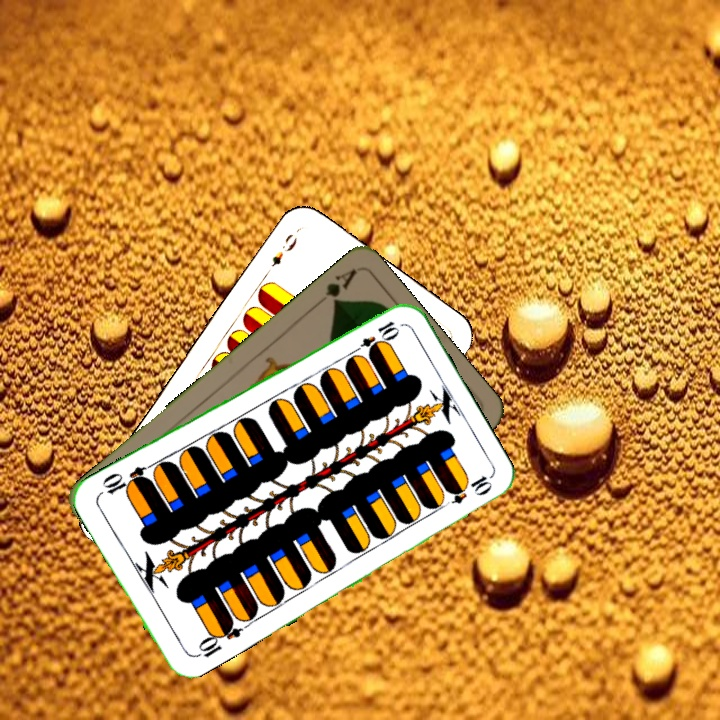E10: (189, 616, 244, 661), (348, 317, 403, 361)
E9: (267, 229, 300, 270)
GA: (310, 265, 359, 310)
